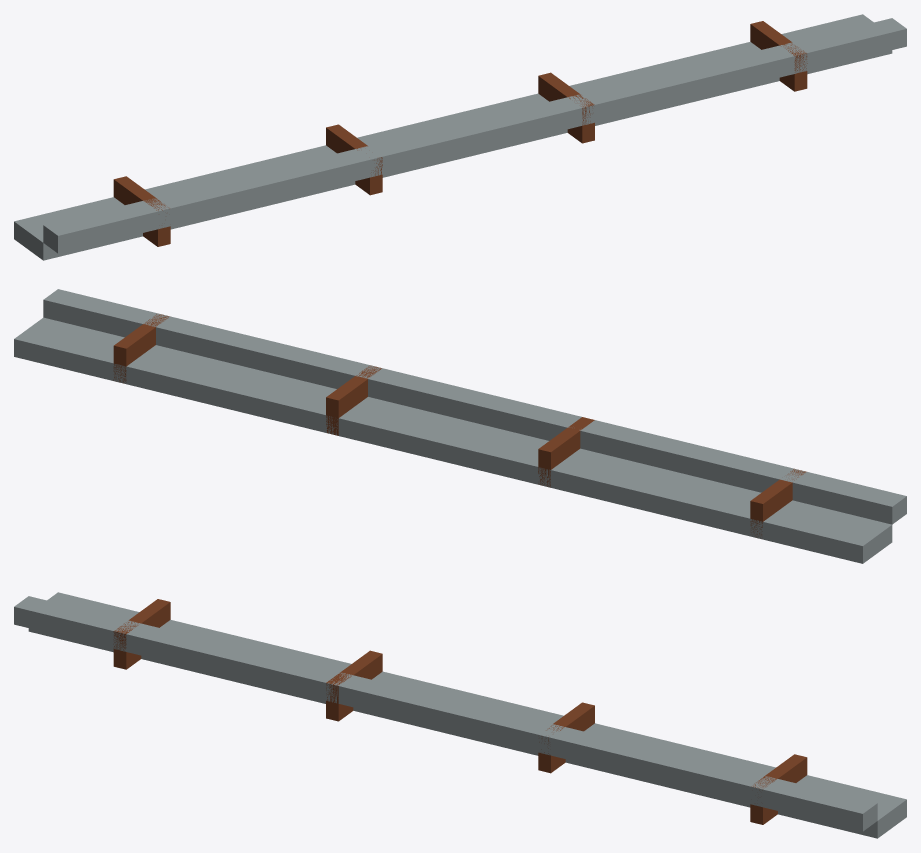
Rendered from FRM_022_C_LODs.fbx.
3 views of the same model, one above another, from view 1: azimuth 30°, elevation 25°; view 2: azimuth 150°, elevation 25°; view 3: azimuth 330°, elevation 25° (orthographic).
Visible parts, largest first — view 1: FRM_022_C_LOD0; view 2: FRM_022_C_LOD0; view 3: FRM_022_C_LOD0.
Boxes of the visible parts, <box> form: FRM_022_C_LOD0: <box>14,14,906,260</box>; FRM_022_C_LOD0: <box>14,289,906,563</box>; FRM_022_C_LOD0: <box>14,592,906,838</box>.
Size of what is drawn, in the model's own units: 2 by 0.08 by 0.18.
